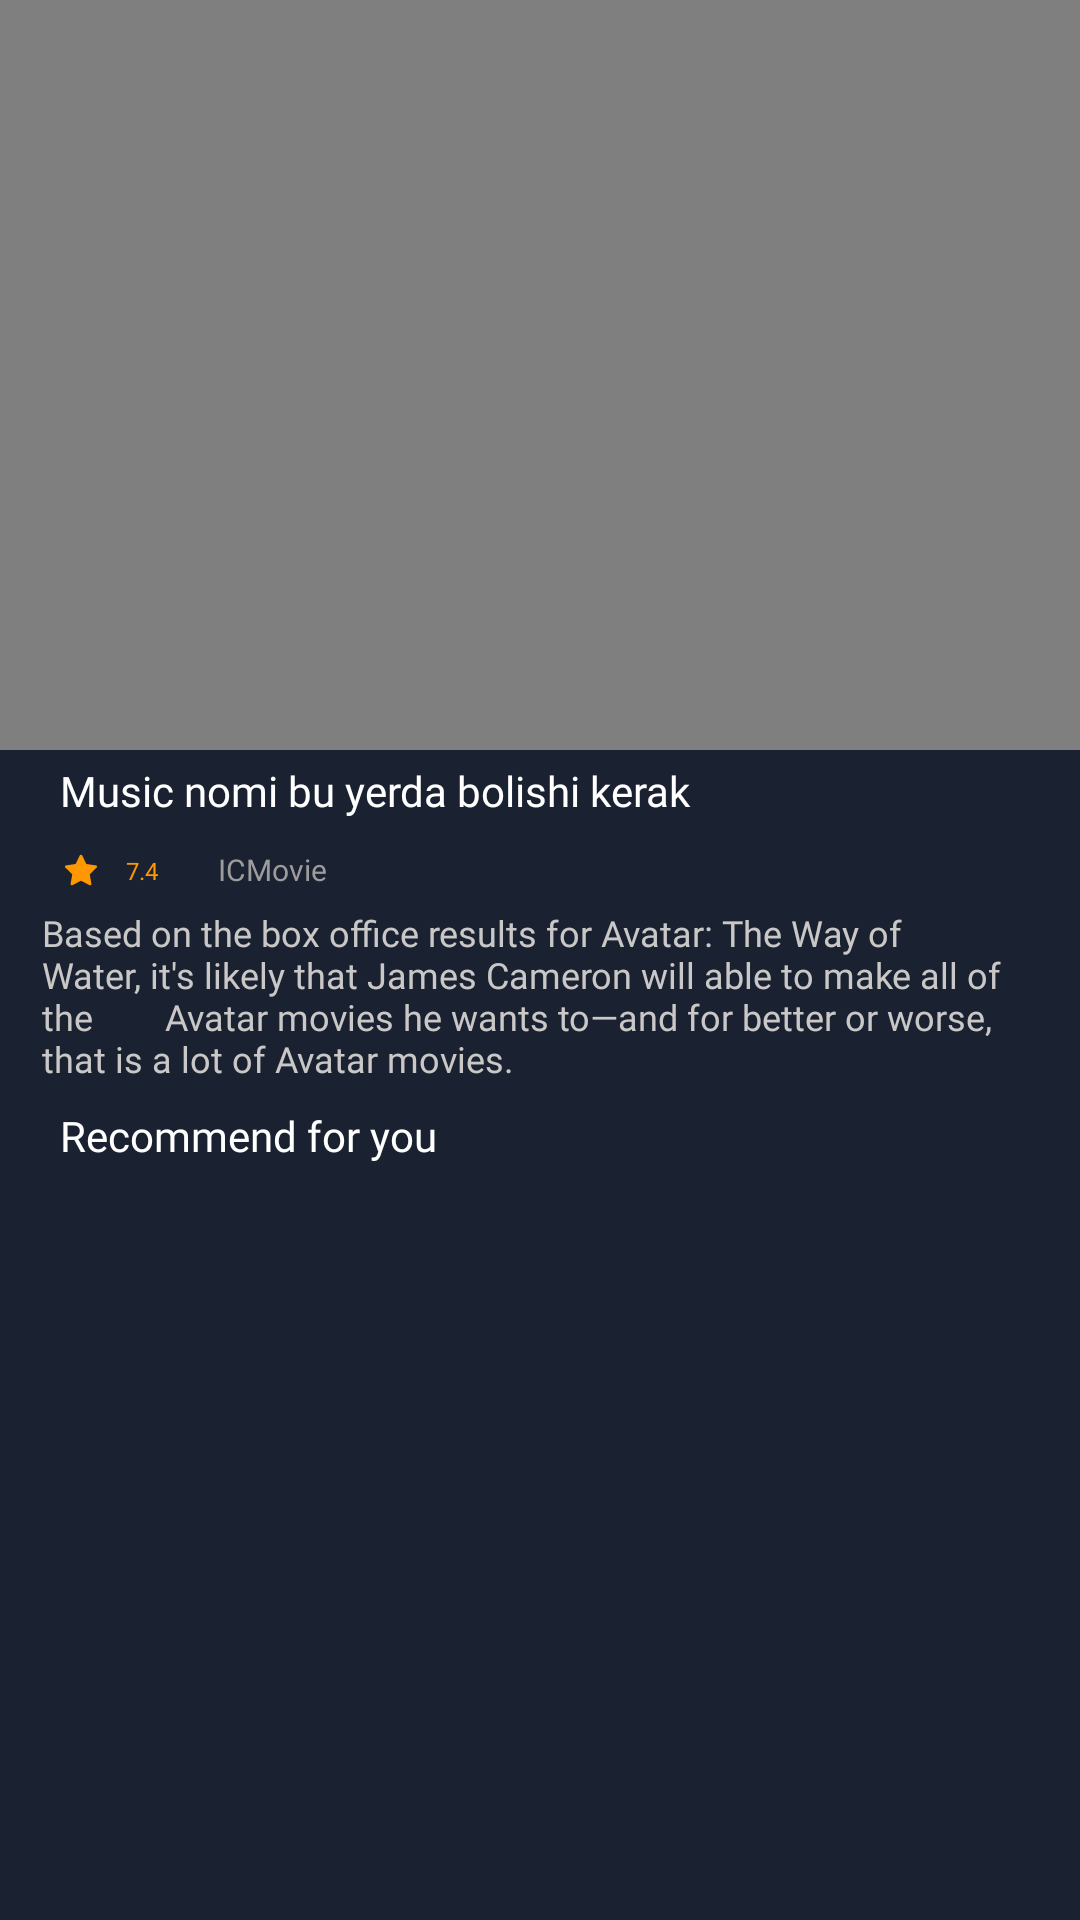

Named icons in this screenshot (1080 x 1920) and their bounding boxes, (x1, y1, x2, y2):
star rate: (65, 854, 97, 886)
